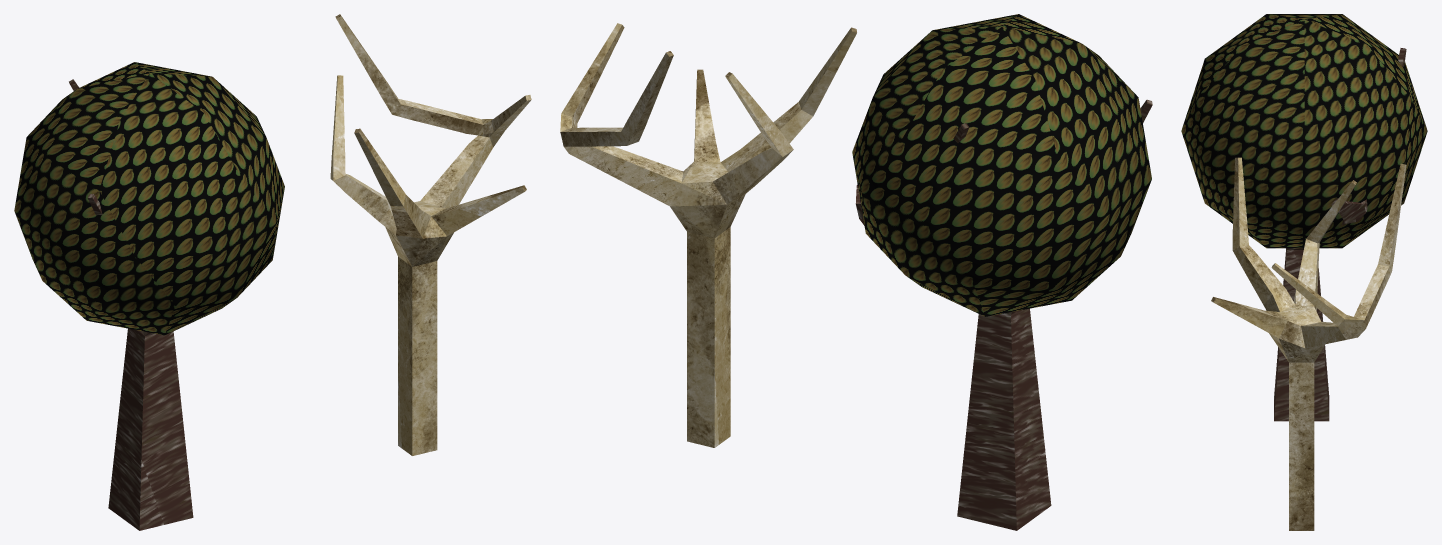
Rendered from trees.fbx.
The picture shows the model from 3 angles, left to right: view 1: azimuth 30°, elevation 25°; view 2: azimuth 150°, elevation 25°; view 3: azimuth 270°, elevation 25°; orthographic projection. The views are drawn at different scales.
Visible parts, largest first — view 1: Icosphere, Plane.001; view 2: Icosphere, Plane.001; view 3: Icosphere, Plane.001.
Part boxes in pixels (box(x1,y1,x2,y2)): Icosphere: box(14, 62, 284, 530); Plane.001: box(330, 14, 531, 455); Icosphere: box(852, 14, 1152, 530); Plane.001: box(560, 23, 856, 447); Icosphere: box(1181, 14, 1427, 421); Plane.001: box(1211, 157, 1406, 530).
Bounding box in the file's own units: 2056 × 1760 × 1007.
